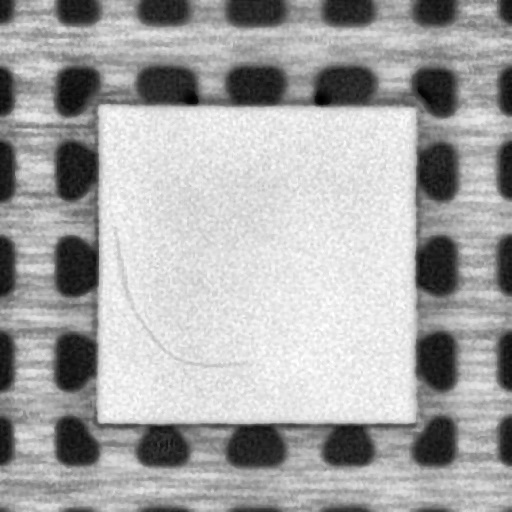DIE_CRACK: (106, 226, 237, 368)
